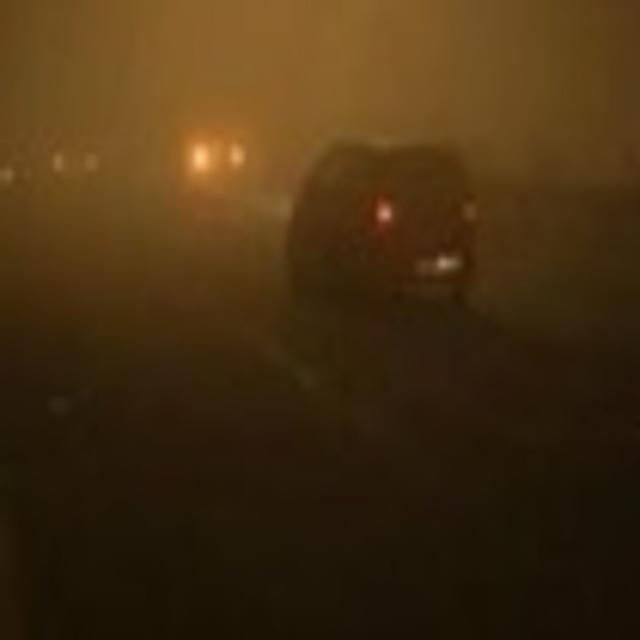car: (283, 136, 479, 307)
